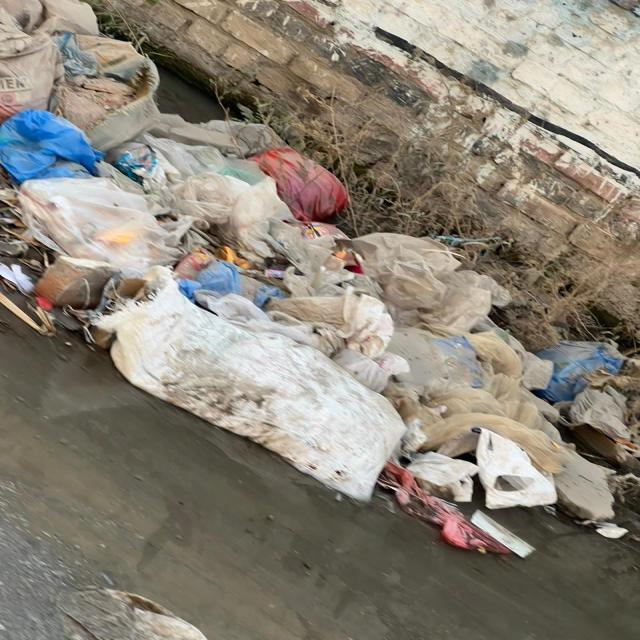garbage: (8, 1, 640, 543)
